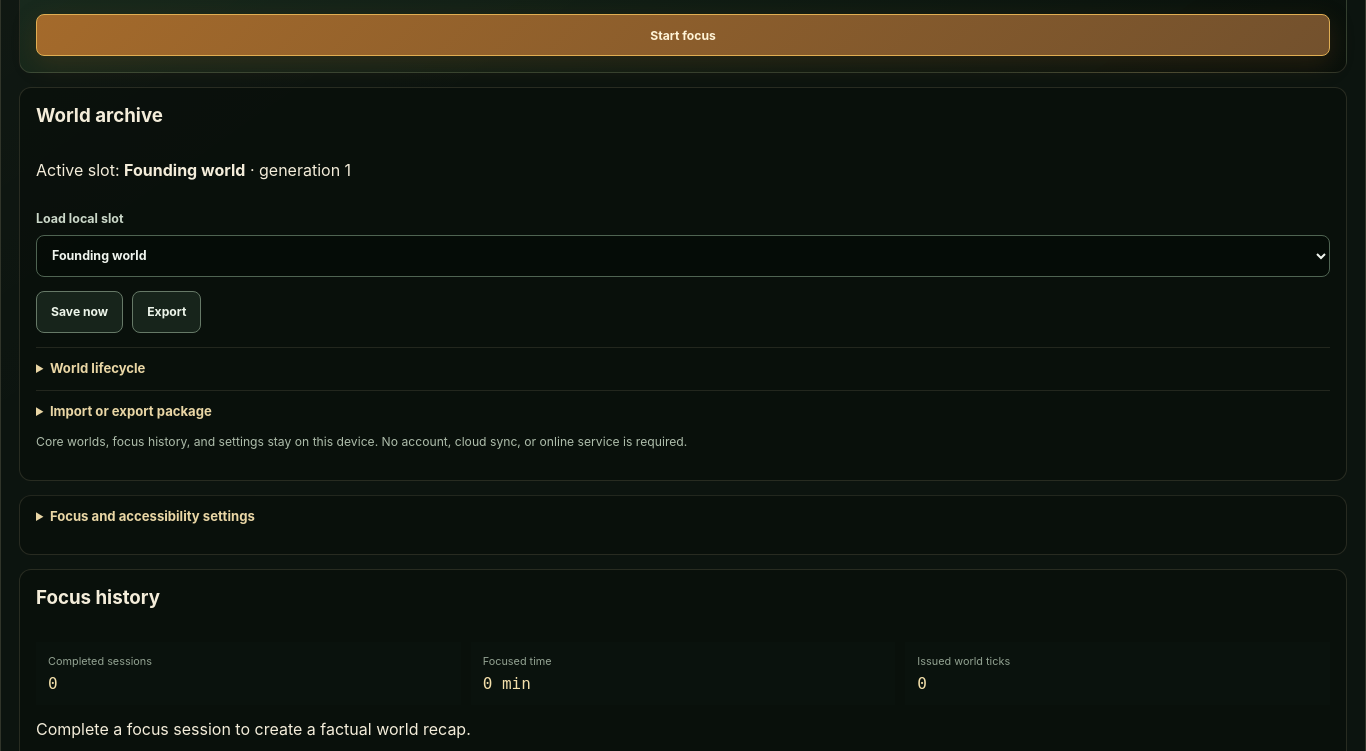
FocusPersistencePanel offline progression › creates a genuinely fresh seeded world without changing the source slot
(page scrolled)
Click the heading "World lifecycle" at (98, 368), box [50,360,145,376]
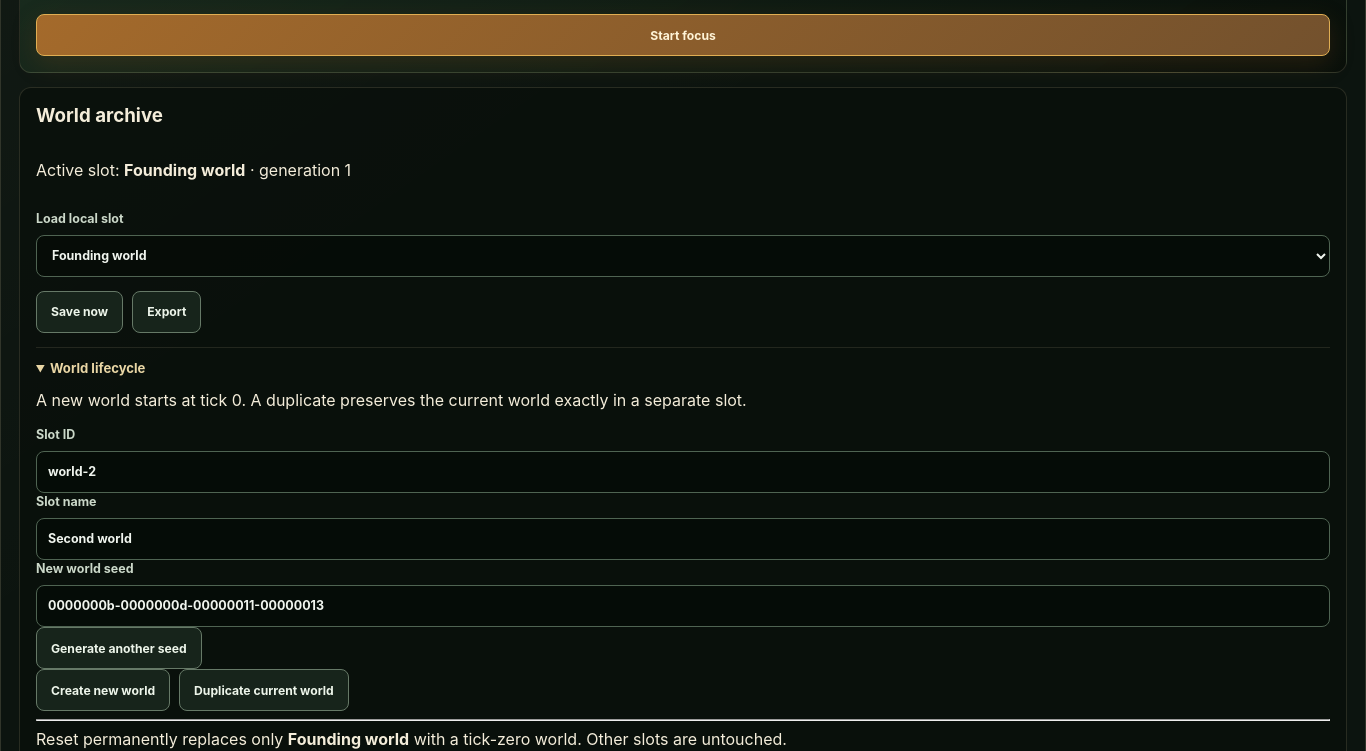
Now the field labelled "New world seed" holds "0000000b-0000000d-00000011-00000013", box [36,585,1330,627]
Click the button "Create new world" at (103, 690), box [36,669,170,711]
(page scrolled)
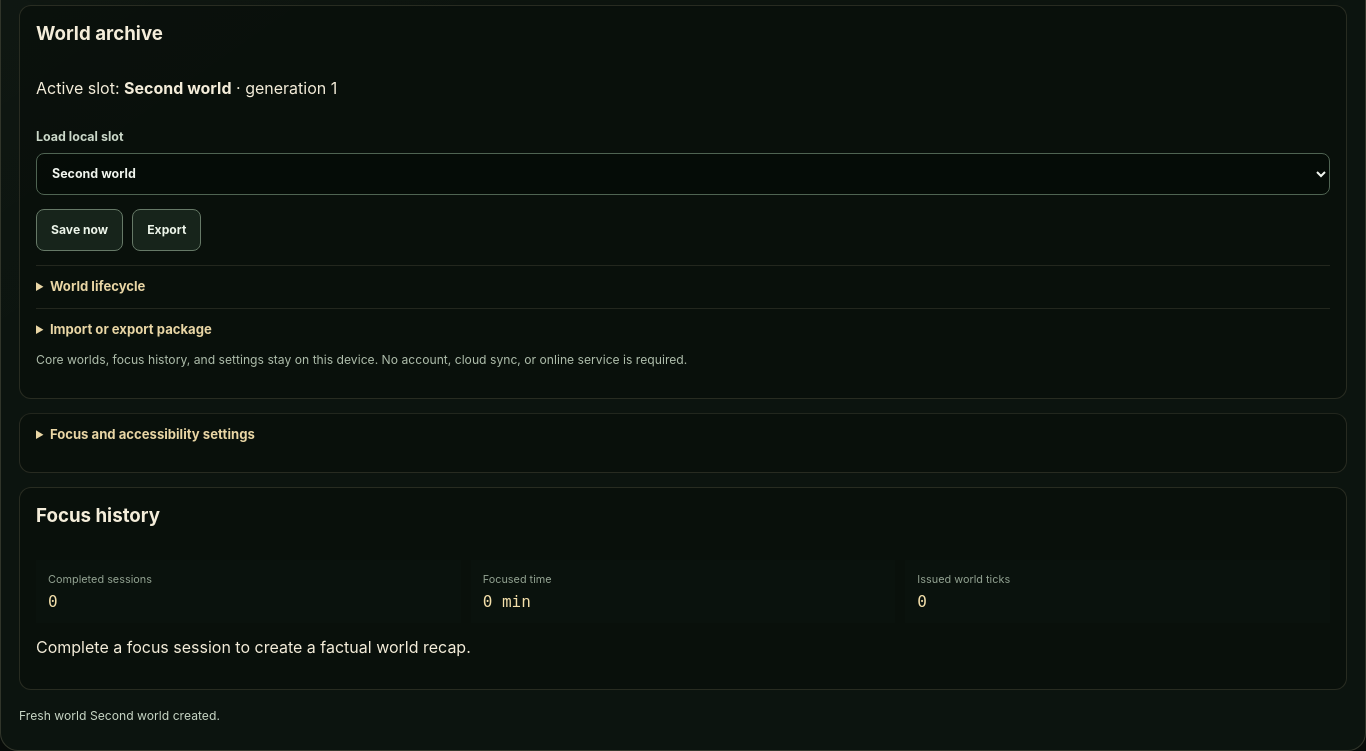
Now the text "Fresh world Second world created." is shown, box [19,708,220,723]
